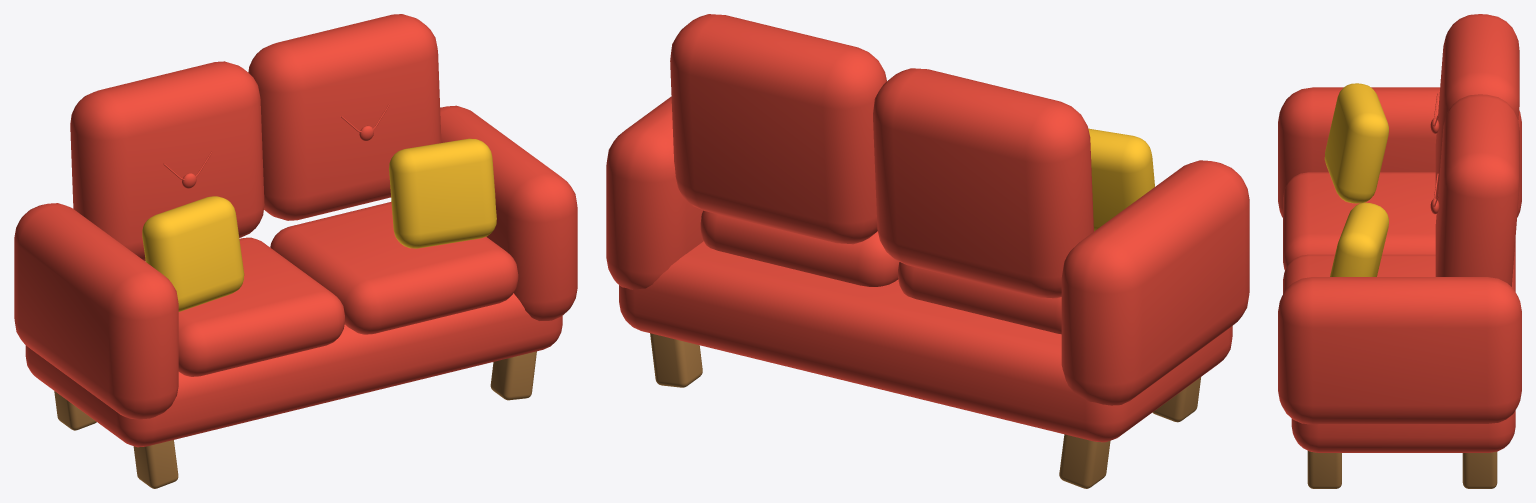
File: easy_couch_01.fbx
3 views of the same model, side by side, from view 1: azimuth 30°, elevation 25°; view 2: azimuth 150°, elevation 25°; view 3: azimuth 270°, elevation 25° (orthographic). The views are drawn at different scales.
Parts seen in each view (by area): view 1: EC01_LOD0; view 2: EC01_LOD0; view 3: EC01_LOD0.
Part boxes in pixels (x1,y1,x2,y2): EC01_LOD0: [14, 14, 577, 488]; EC01_LOD0: [606, 14, 1249, 488]; EC01_LOD0: [1278, 14, 1521, 488].
Size of what is drawn, in the model's own units: 2.12 by 1.42 by 0.99.
